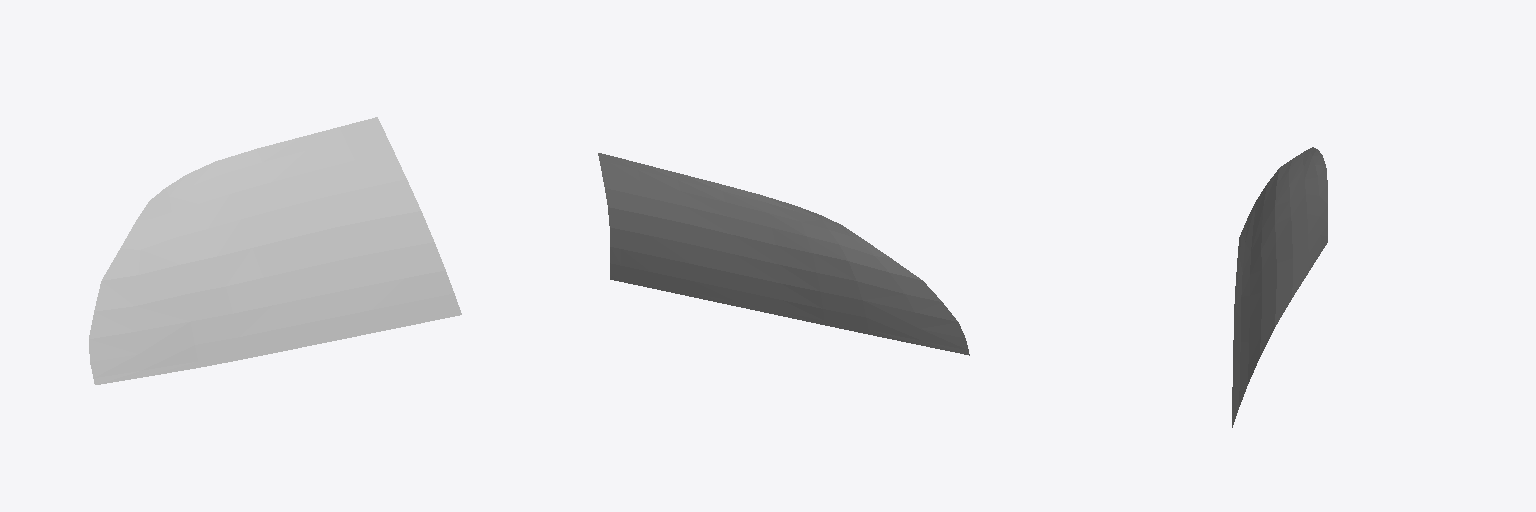
3 renders of one model, left to right at view 1: azimuth 30°, elevation 25°; view 2: azimuth 150°, elevation 25°; view 3: azimuth 270°, elevation 25°, orthographic.
Parts seen in each view (by area): view 1: H124_325B_R_DTaSI_H124_325B_R; view 2: H124_325B_R_DTaSI_H124_325B_R; view 3: H124_325B_R_DTaSI_H124_325B_R.
Part boxes in pixels (x1,y1,x2,y2): H124_325B_R_DTaSI_H124_325B_R: (89, 117, 461, 384); H124_325B_R_DTaSI_H124_325B_R: (598, 153, 969, 355); H124_325B_R_DTaSI_H124_325B_R: (1232, 147, 1327, 427).
Size of the model in its own units: 101 by 45.28 by 23.18.